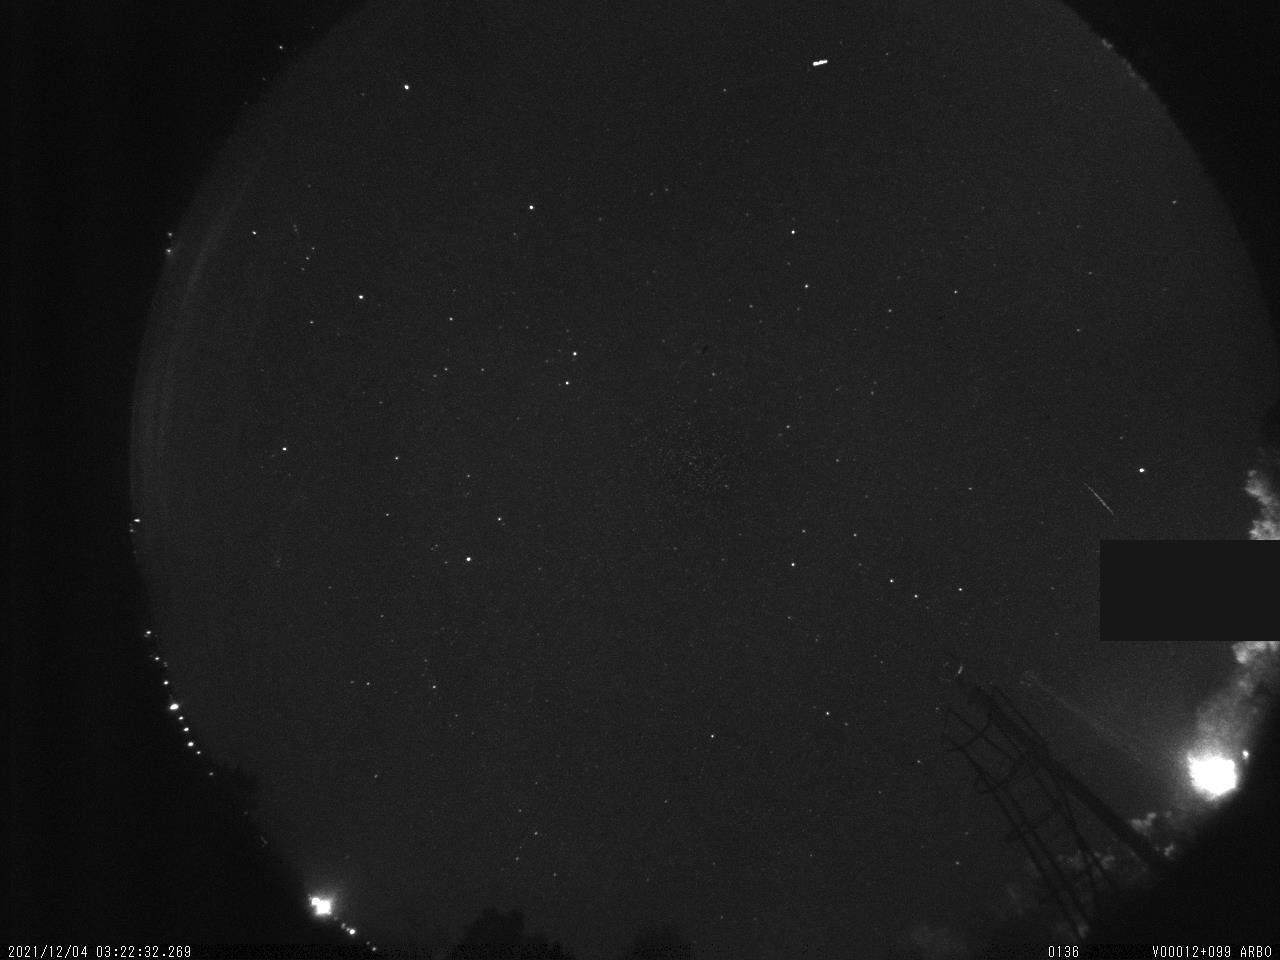meteor: (1075, 471, 1123, 527)
satelite: (807, 55, 836, 68)
